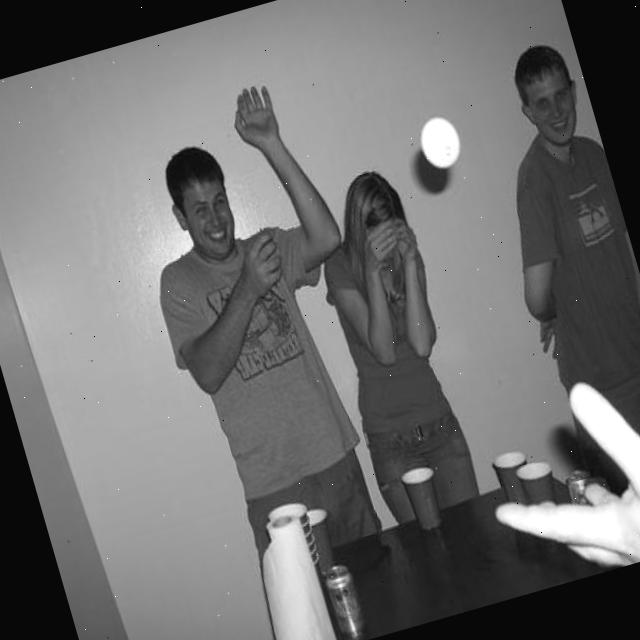ping-pong-ball: (412, 110, 468, 175)
